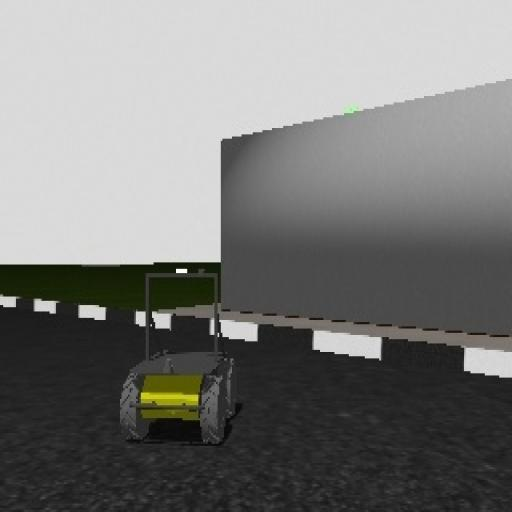huskya200: (113, 260, 243, 474)
